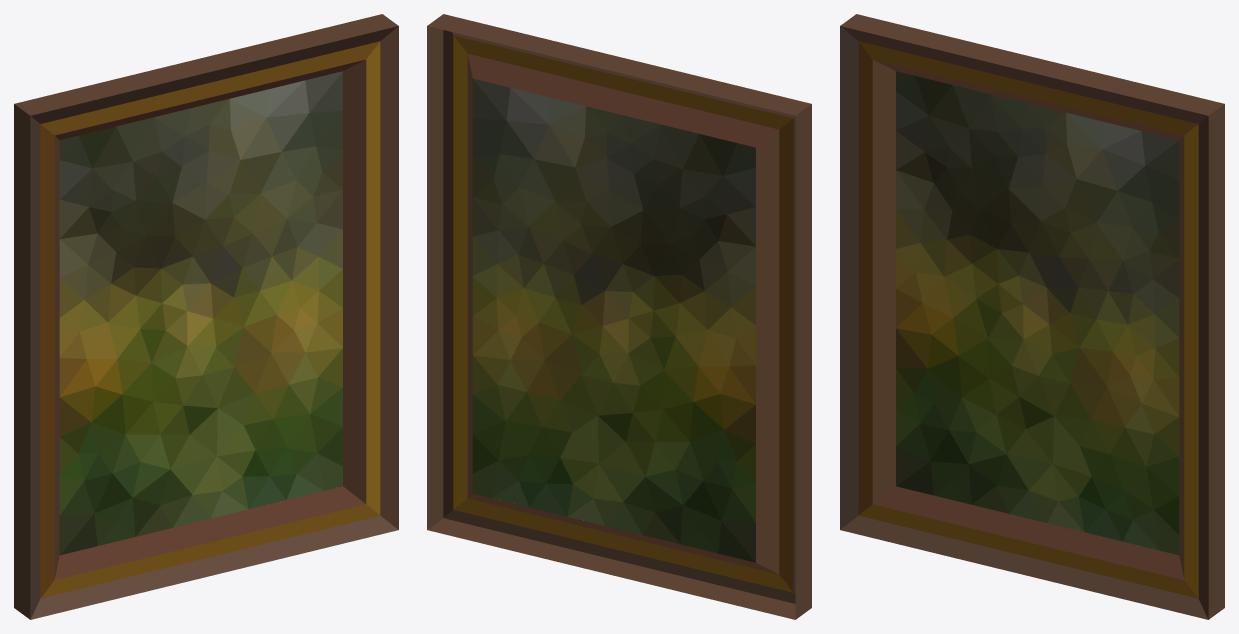
The model's file is Prop_PaintingC.fbx.
The picture shows the model from 3 angles, left to right: view 1: azimuth 30°, elevation 25°; view 2: azimuth 150°, elevation 25°; view 3: azimuth 330°, elevation 25°; orthographic projection.
Parts seen in each view (by area): view 1: Prop_PaintingC; view 2: Prop_PaintingC; view 3: Prop_PaintingC.
Boxes of the visible parts, <box> form: Prop_PaintingC: <box>14,14,398,619</box>; Prop_PaintingC: <box>427,14,811,619</box>; Prop_PaintingC: <box>840,14,1224,619</box>.
Bounding box in the file's own units: 65 × 85 × 5.
